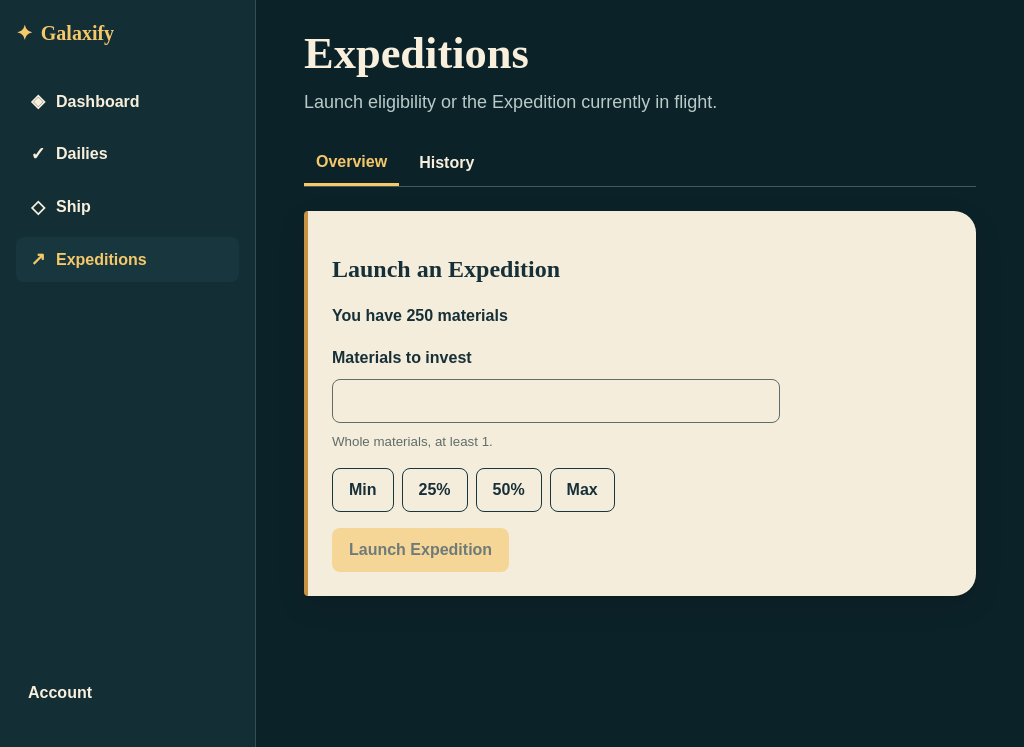
Test case: Expeditions overview — launch form › detects an out-of-date quote from the post-revalidation data
Expected: the heading "Expeditions" is shown, [304, 28, 529, 78]
Expected: the text "You have 250 materials" is shown, [332, 307, 508, 324]
Type "40" into the number field labelled "Materials to invest".
click(556, 401); type("40")  # box [332, 379, 780, 423]
(page scrolled)
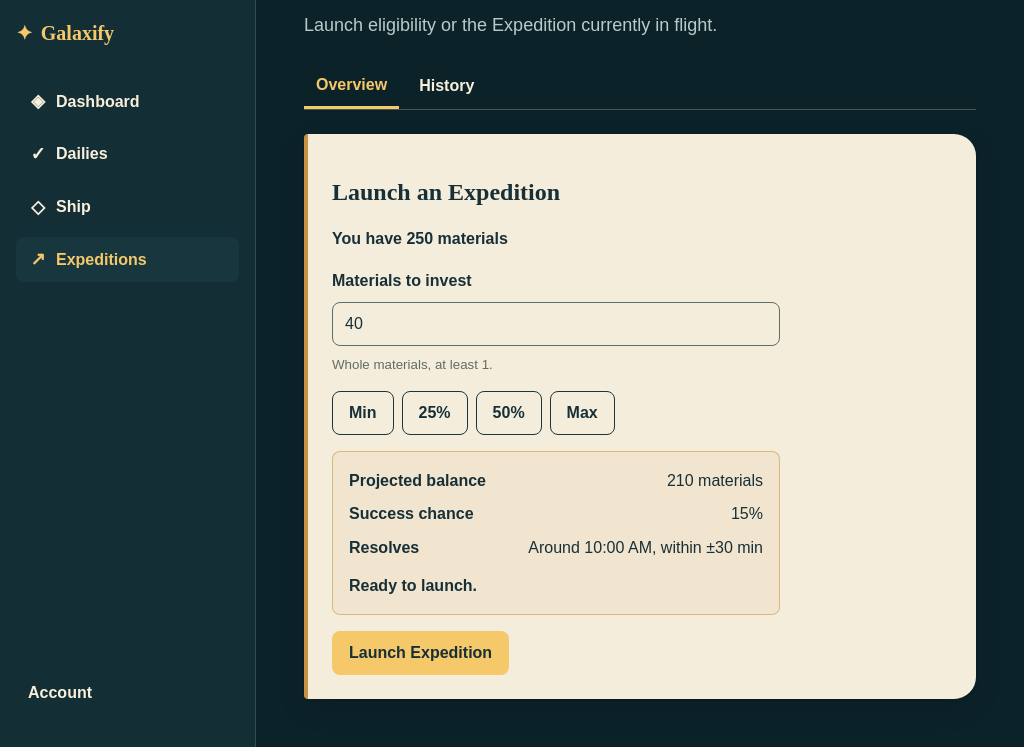
Now the text "Ready to launch." is shown, box [349, 577, 477, 594]
Click the button "Launch Expedition".
click(421, 653)  # box [332, 631, 509, 675]
Wait 50 ms
(page scrolled)
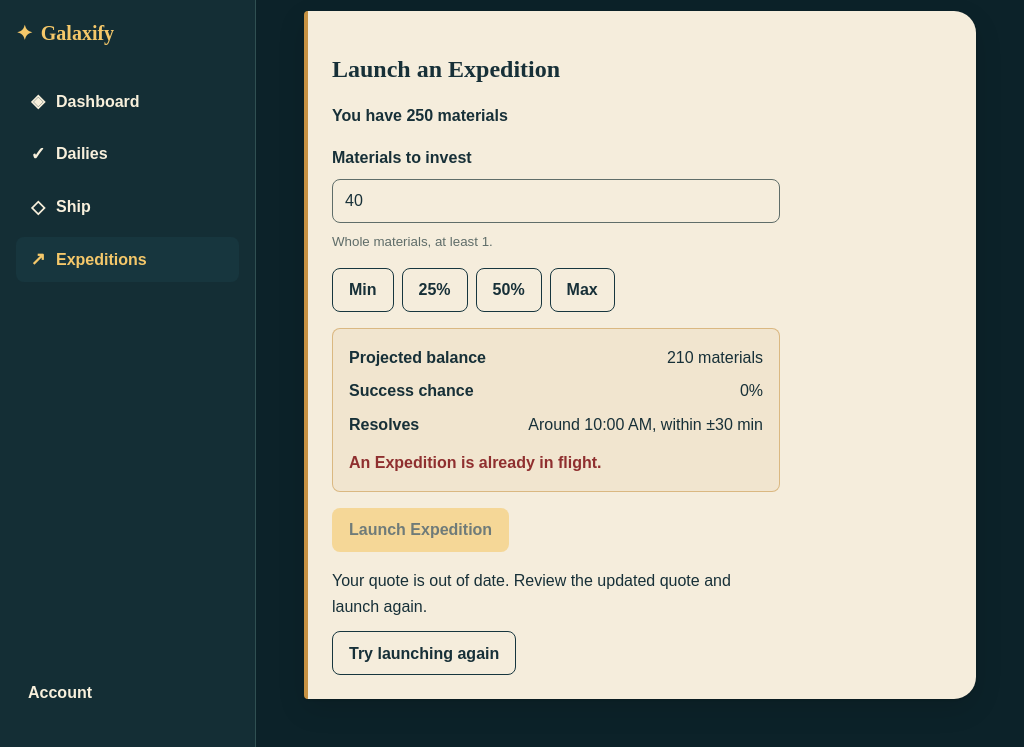
Now the button "Try launching again" is shown, box [332, 631, 516, 675]
